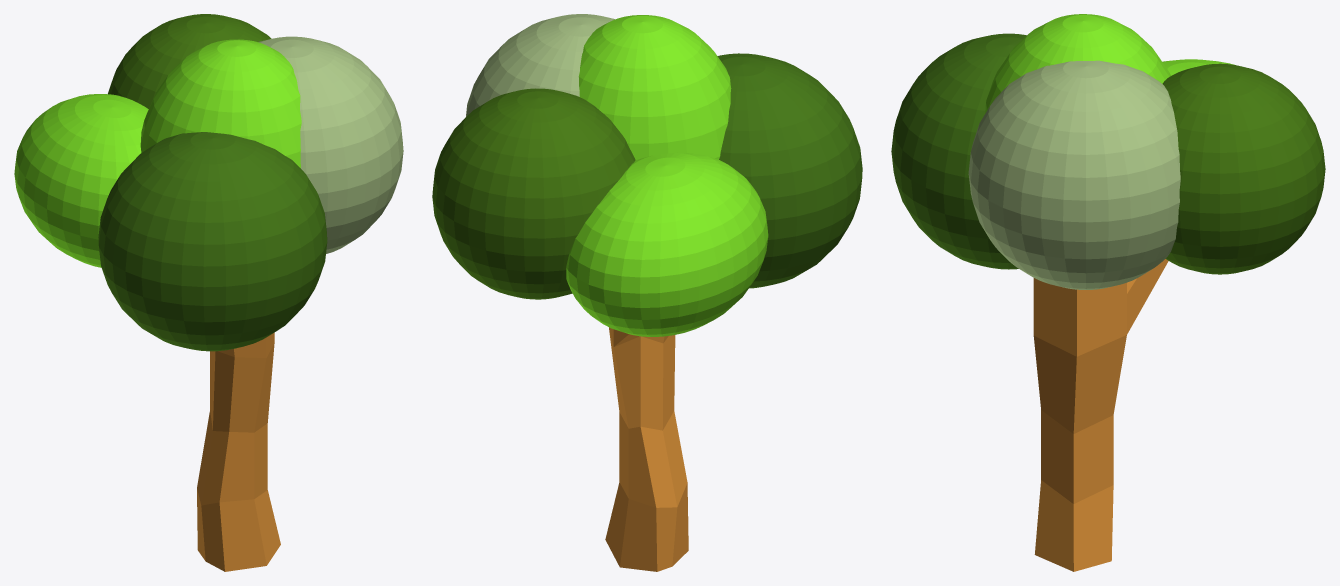
The model's file is obj_tree.fbx.
3 views of the same model, side by side, from view 1: azimuth 30°, elevation 25°; view 2: azimuth 150°, elevation 25°; view 3: azimuth 270°, elevation 25° (orthographic). The views are drawn at different scales.
Visible parts, largest first — view 1: Trunk; view 2: Trunk; view 3: Trunk.
Part boxes in pixels (left/top/right/bottom): Trunk: left=14, top=14, right=403, bottom=571; Trunk: left=432, top=14, right=862, bottom=571; Trunk: left=891, top=14, right=1325, bottom=571.
Bounding box in the file's own units: 1125 × 1752 × 1286.
